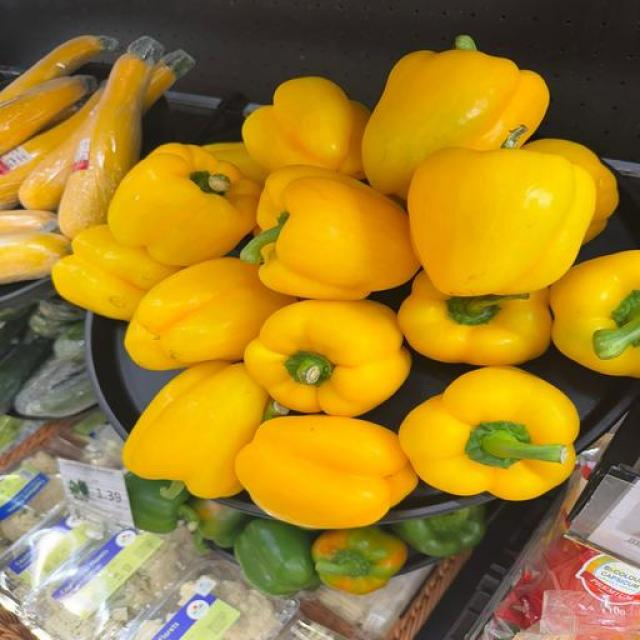organic: (408, 123, 594, 296), (362, 34, 548, 199), (399, 367, 579, 499), (240, 167, 418, 299), (100, 143, 259, 288), (123, 362, 267, 497), (245, 300, 409, 417), (398, 272, 552, 364), (242, 78, 368, 176), (53, 224, 174, 319), (550, 250, 639, 378), (0, 299, 94, 417), (522, 139, 619, 244), (14, 304, 96, 417), (62, 533, 164, 619), (294, 337, 409, 413), (234, 519, 318, 596), (313, 527, 407, 594), (15, 522, 94, 589), (14, 355, 96, 418), (392, 505, 486, 557), (465, 422, 567, 468), (314, 527, 406, 578), (0, 332, 51, 413), (125, 473, 189, 533), (593, 290, 639, 359), (189, 498, 251, 548), (73, 409, 122, 466), (73, 409, 121, 466), (447, 294, 528, 326), (177, 599, 241, 639), (240, 213, 288, 263), (29, 298, 84, 338), (593, 318, 639, 359), (178, 494, 209, 553), (0, 463, 39, 507), (284, 352, 333, 386), (317, 549, 372, 578), (38, 295, 84, 323), (0, 310, 27, 357), (53, 322, 84, 359), (29, 312, 68, 338), (0, 313, 28, 349), (612, 290, 639, 327), (73, 409, 107, 438), (190, 172, 231, 196), (0, 415, 24, 449), (0, 304, 32, 323), (502, 124, 527, 148), (263, 400, 289, 421), (208, 174, 231, 196), (189, 172, 213, 193), (160, 480, 186, 499), (68, 480, 89, 499), (454, 35, 477, 51)
